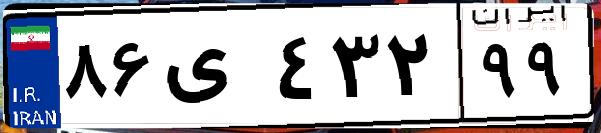2: (385, 28, 445, 110)
3: (330, 28, 385, 110)
4: (270, 28, 330, 110)
6: (110, 28, 158, 98)
8: (57, 26, 110, 100)
9: (475, 38, 525, 113), (525, 38, 570, 115)
ی: (158, 20, 270, 120)
